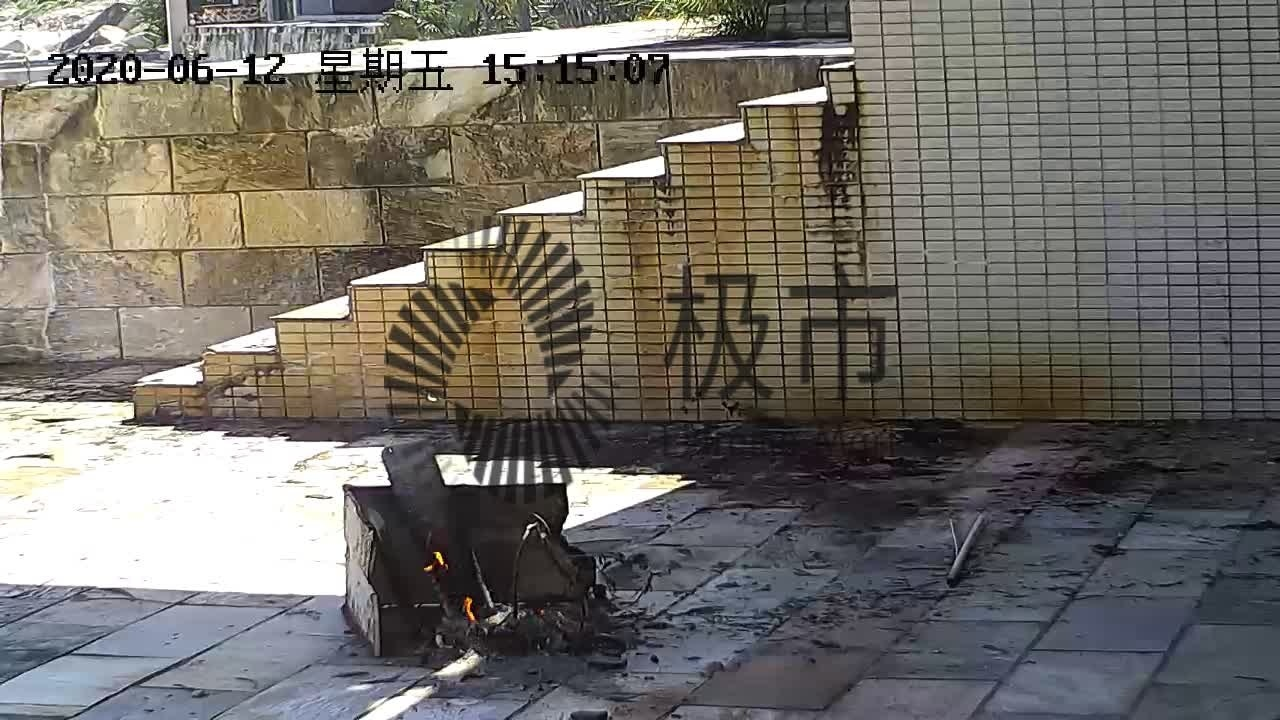fire: (409, 537, 489, 634), (416, 540, 454, 579)
